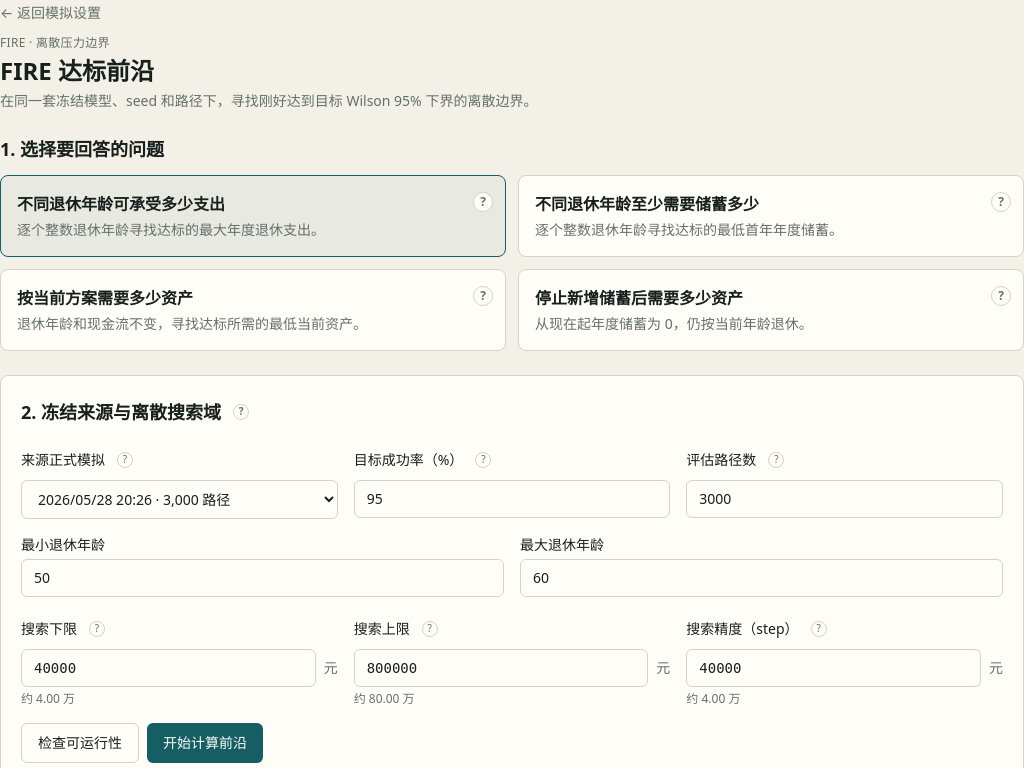
Scenario: FrontierPage › disables creation for a readiness budget failure
The width and height of the screenshot is (1024, 768).
Click the button "检查可运行性". click: (80, 743)
box: [21,723,139,763]
(page scrolled)
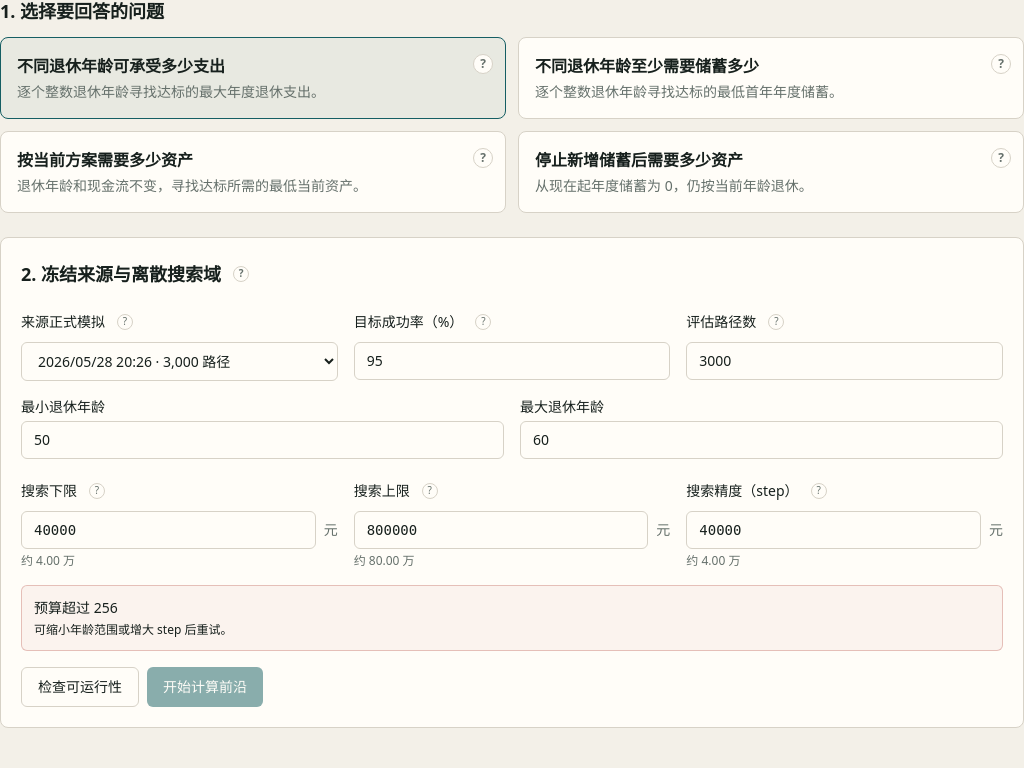
Check: the text "预算超过 256" is shown, box [34,598,118,617]
Check: the button "开始计算前沿" is disabled, box [147,667,263,707]
